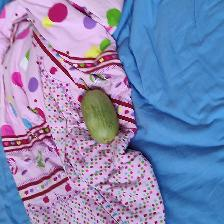gua: (80, 91, 112, 141)
